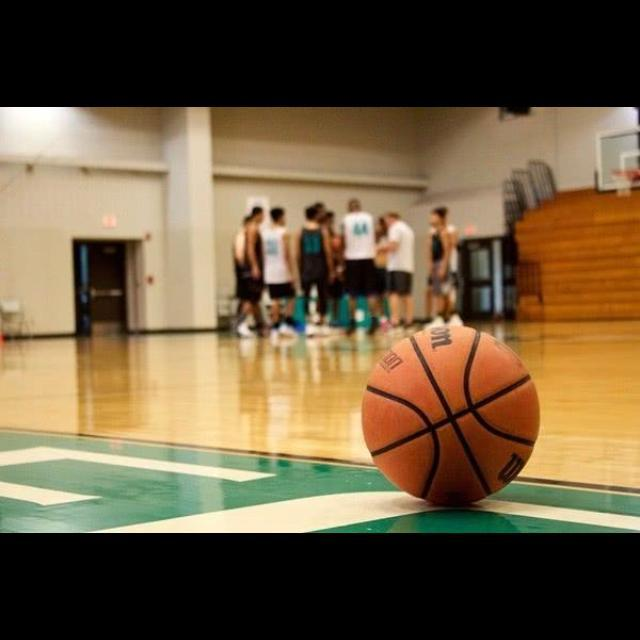basketball: (363, 326, 539, 506)
